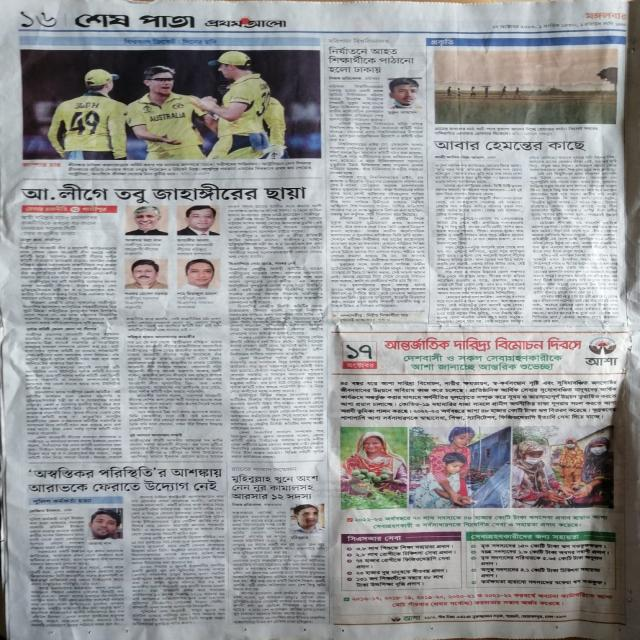advertisement: (331, 332, 629, 624)
caption: (23, 160, 312, 178), (435, 125, 597, 136), (124, 235, 163, 256), (177, 235, 216, 256), (124, 291, 167, 308), (177, 291, 217, 309), (388, 108, 419, 115), (87, 540, 120, 546), (291, 536, 309, 540)
image: (21, 50, 320, 158), (435, 48, 619, 124), (123, 260, 169, 289), (177, 205, 220, 235), (177, 259, 220, 289), (126, 206, 169, 235), (386, 78, 425, 109), (87, 508, 123, 541), (288, 504, 325, 535)
page number: (19, 11, 56, 28)
paragraph: (227, 204, 326, 459), (328, 82, 427, 310), (433, 155, 526, 325), (530, 155, 619, 324), (25, 328, 122, 460), (132, 495, 225, 625), (128, 334, 223, 460), (231, 509, 326, 624), (19, 215, 116, 326), (29, 515, 124, 626), (126, 318, 221, 331)
text: (491, 19, 627, 31), (332, 311, 425, 324), (231, 466, 297, 472), (328, 75, 380, 81), (231, 502, 283, 508), (29, 508, 72, 515), (586, 12, 627, 19)
title: (21, 182, 306, 202), (27, 465, 223, 494), (326, 38, 415, 74), (231, 472, 318, 501), (435, 141, 586, 151), (204, 16, 287, 28), (29, 496, 122, 505), (138, 15, 196, 29), (74, 14, 132, 28), (122, 38, 219, 45), (21, 205, 116, 212), (429, 38, 454, 45)
